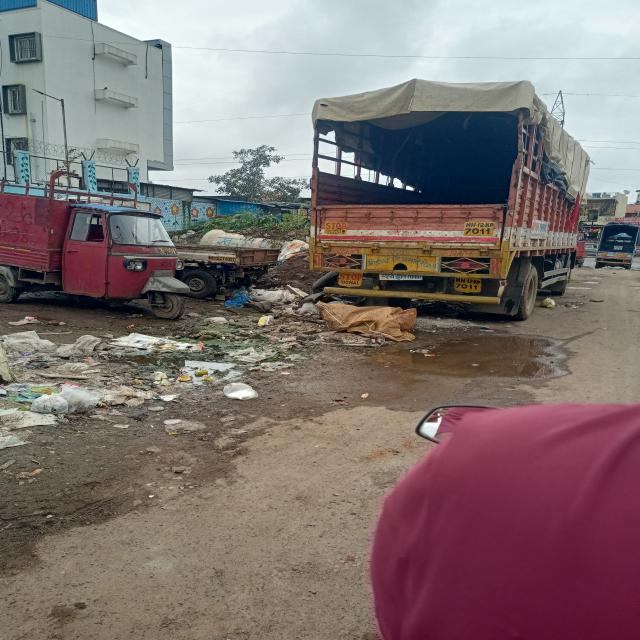garbage: (2, 329, 263, 418), (246, 281, 420, 348), (271, 237, 314, 282)
